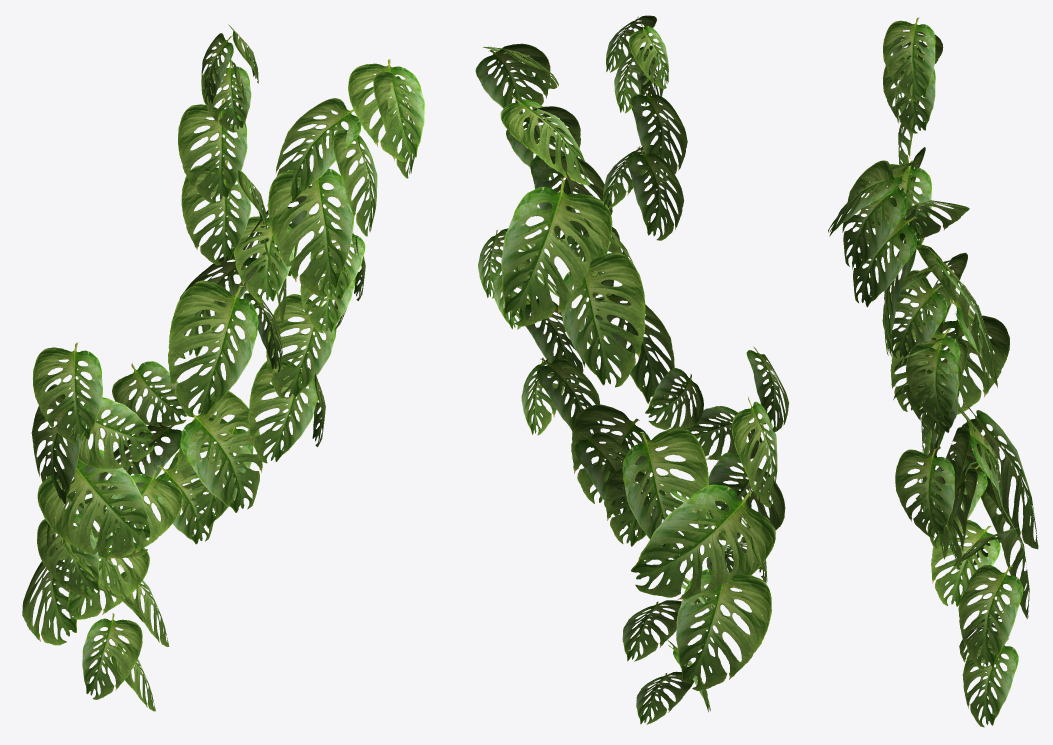
The model's file is wall plant.dae.
The picture shows the model from 3 angles, left to right: view 1: azimuth 30°, elevation 25°; view 2: azimuth 150°, elevation 25°; view 3: azimuth 270°, elevation 25°; orthographic projection. The views are drawn at different scales.
Parts seen in each view (by area): view 1: wall_plant; view 2: wall_plant; view 3: wall_plant.
Part boxes in pixels (left/top/right/bottom): wall_plant: left=22, top=24, right=425, bottom=711; wall_plant: left=475, top=15, right=789, bottom=724; wall_plant: left=828, top=17, right=1038, bottom=727.
Size of the model in its own units: 55.12 by 101 by 26.17.
1 material, 1 textured.
